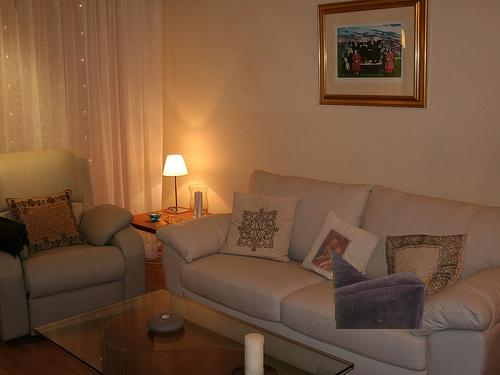tampered: (332, 250, 425, 329)
